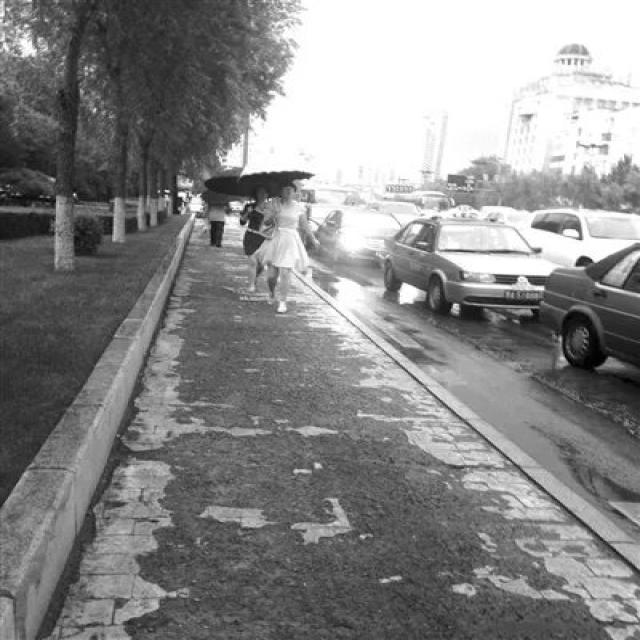Pothole: (200, 502, 370, 553), (200, 418, 358, 450)
